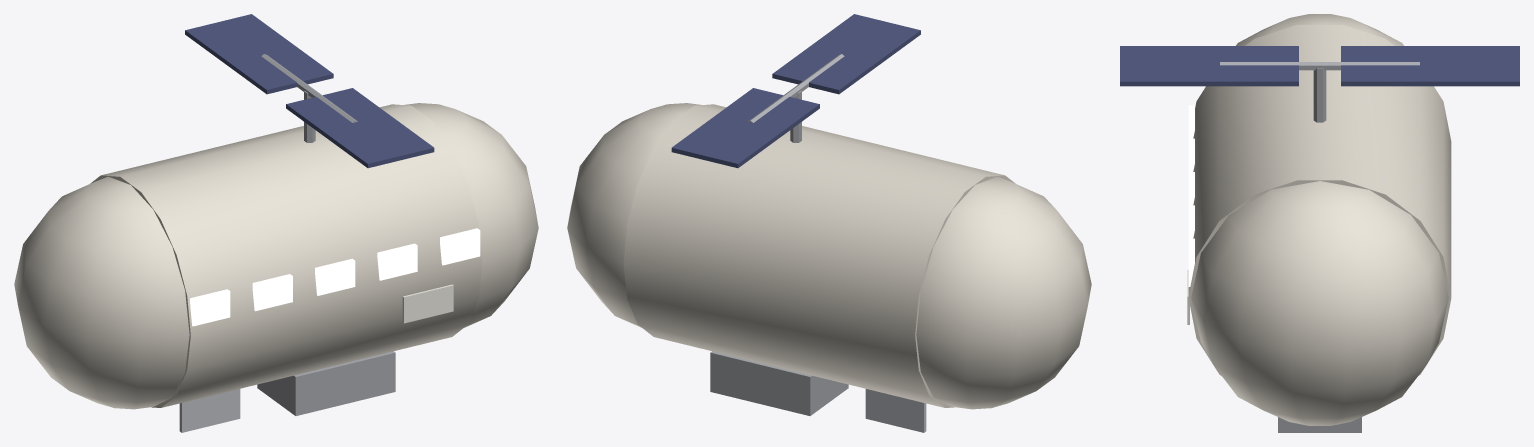
File: place_habitat_pod.glb
3 renders of one model, left to right at view 1: azimuth 30°, elevation 25°; view 2: azimuth 150°, elevation 25°; view 3: azimuth 270°, elevation 25°, orthographic. The views are drawn at different scales.
Parts seen in each view (by area): view 1: hull_shell, hull_domea, hull_domef, wing_s, wing_p, utility, radfin, plate, win4, win2, win0, win3 (+2 smaller); view 2: hull_shell, hull_domea, hull_domef, wing_p, wing_s, utility, radfin, wing_boom; view 3: hull_domef, hull_shell, wing_p, wing_s, hull_domea, wing_boom, utility, mast.
Part boxes in pixels (box(x1,y1,x2,y2)): hull_shell: box(90, 104, 482, 407); hull_domea: box(14, 176, 189, 409); hull_domef: box(404, 103, 538, 327); wing_s: box(286, 88, 434, 168); wing_p: box(185, 14, 333, 94); utility: box(257, 351, 395, 415); radfin: box(179, 389, 240, 432); plate: box(402, 284, 453, 323); win4: box(440, 228, 480, 265); win2: box(315, 258, 355, 295); win0: box(190, 289, 230, 326); win3: box(377, 243, 417, 280); hull_shell: box(623, 104, 1015, 407); hull_domea: box(916, 176, 1091, 409); hull_domef: box(567, 103, 701, 327); wing_p: box(671, 88, 819, 168); wing_s: box(772, 14, 920, 94); utility: box(710, 351, 848, 415); radfin: box(865, 389, 926, 432); wing_boom: box(748, 54, 844, 122); hull_domef: box(1191, 181, 1448, 425); hull_shell: box(1188, 25, 1451, 375); wing_p: box(1341, 46, 1519, 86); wing_s: box(1120, 46, 1298, 86); hull_domea: box(1236, 14, 1403, 45); wing_boom: box(1220, 62, 1419, 70); utility: box(1278, 417, 1361, 432); mast: box(1313, 68, 1326, 122).
Size of the model in its own units: 11.78 by 7.19 by 7.6.
